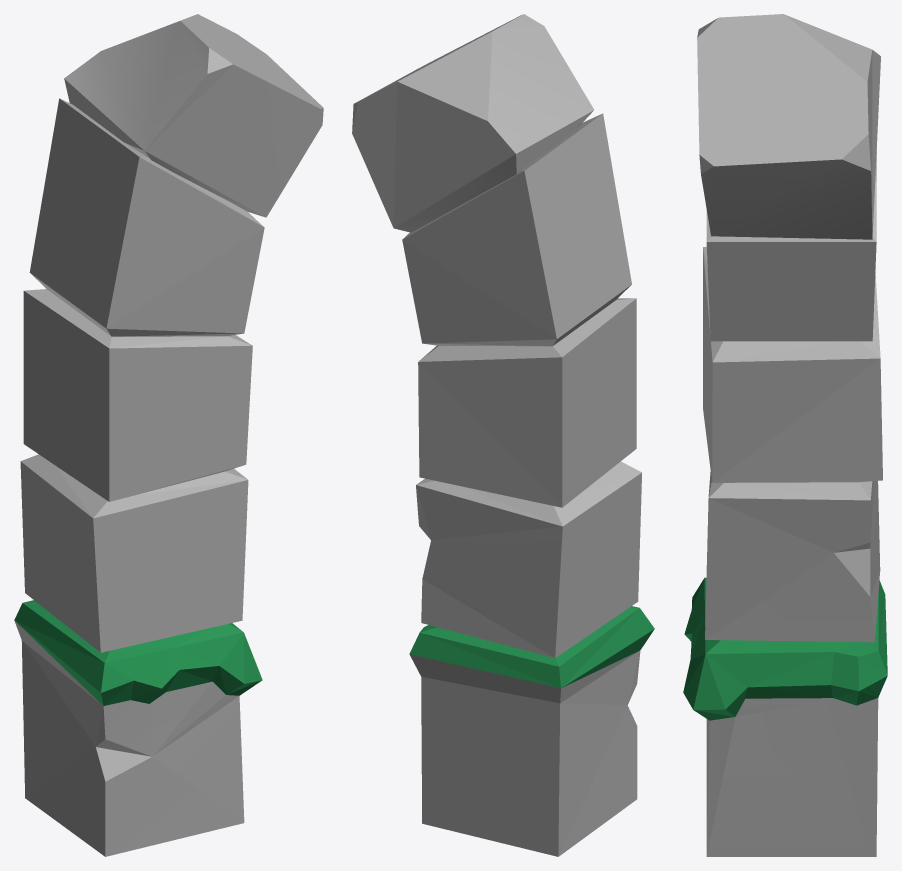
The model's file is Arch3.fbx.
The picture shows the model from 3 angles, left to right: view 1: azimuth 30°, elevation 25°; view 2: azimuth 150°, elevation 25°; view 3: azimuth 270°, elevation 25°; orthographic projection. The views are drawn at different scales.
Visible parts, largest first — view 1: Arch3; view 2: Arch3; view 3: Arch3.
Part boxes in pixels (x1=…): Arch3: x1=14, y1=14, x2=323, y2=856; Arch3: x1=352, y1=14, x2=654, y2=856; Arch3: x1=683, y1=14, x2=887, y2=856.
Bounding box in the file's own units: 130 × 91.78 × 410.
